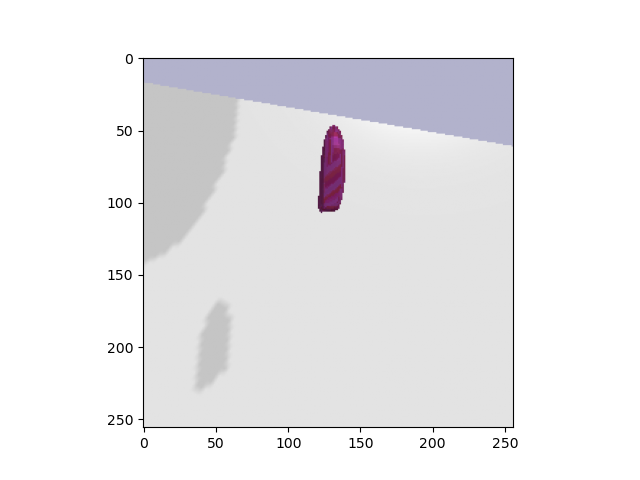v249b387_105: (312, 120, 353, 218)
